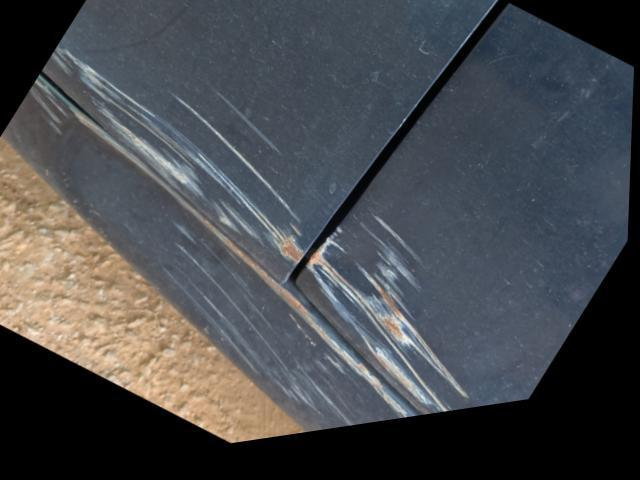scratch: (42, 40, 318, 273), (171, 225, 419, 438), (311, 209, 474, 427), (22, 78, 74, 140)
